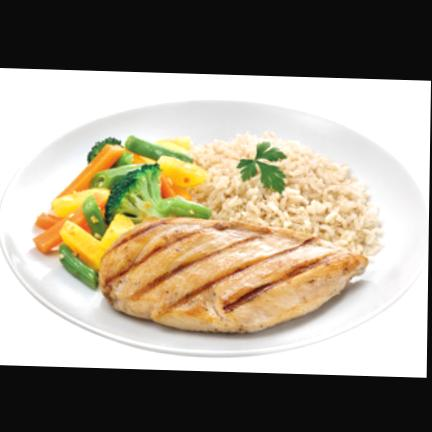broccoli: (106, 164, 169, 223)
carrot: (34, 207, 90, 253)
chicken: (100, 218, 368, 333)
green_beans: (125, 136, 193, 163)
rice: (188, 133, 382, 255)
